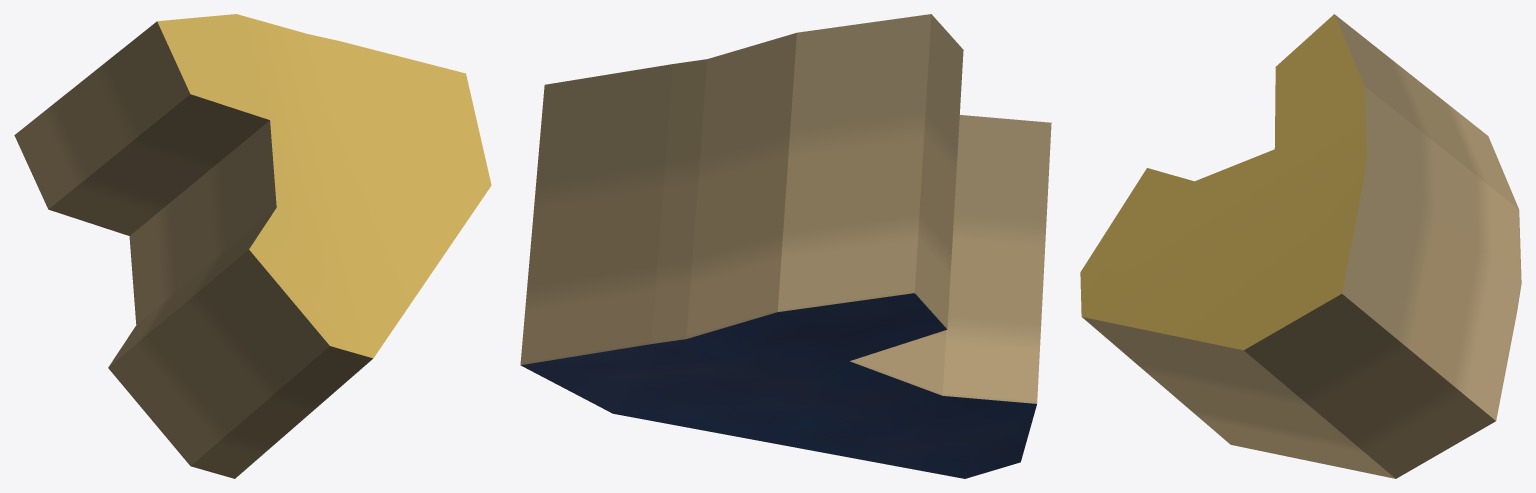
The model's file is 0672_Greece.glb.
3 views of the same model, side by side, from view 1: azimuth 30°, elevation 25°; view 2: azimuth 150°, elevation 25°; view 3: azimuth 270°, elevation 25° (orthographic). The views are drawn at different scales.
Parts seen in each view (by area): view 1: part_0; view 2: part_0; view 3: part_0.
Boxes of the visible parts, bbox=[...] form: part_0: bbox=[14, 14, 491, 478]; part_0: bbox=[520, 14, 1051, 478]; part_0: bbox=[1080, 14, 1521, 478].
Size of the model in its own units: 0.3602 by 0.3847 by 0.3674.
Materials: 1 (1 with a texture image).
